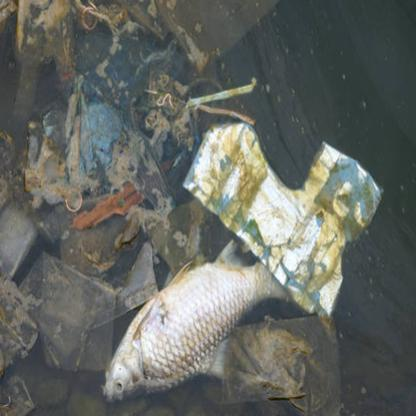deceased fish: (89, 241, 310, 403)
